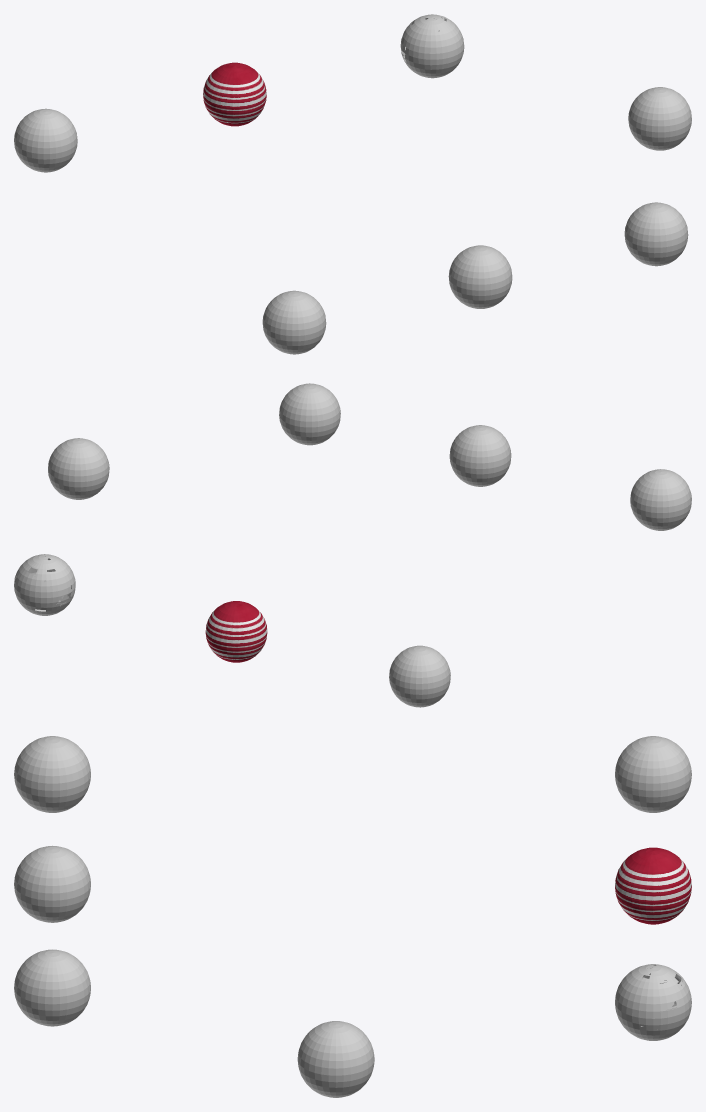
Rendered from PBR.fbx.
The picture shows the model from 3 angles, top to bottom: view 1: azimuth 30°, elevation 25°; view 2: azimuth 150°, elevation 25°; view 3: azimuth 270°, elevation 25°; orthographic projection. The views are drawn at different scales.
Parts seen in each view (by area): view 1: Sphere.005, Sphere.002, Sphere.004, Sphere.001, Sphere.006, Sphere.003, Sphere; view 2: Sphere.003, Sphere.001, Sphere, Sphere.004, Sphere.006, Sphere.002, Sphere.005; view 3: Sphere.001, Sphere.004, Sphere.006, Sphere, Sphere.005, Sphere.002, Sphere.003.
Part boxes in pixels (box(x1,y1,x2,y2)): Sphere.005: box(400, 14, 464, 78); Sphere.002: box(262, 290, 326, 354); Sphere.004: box(203, 62, 266, 126); Sphere.001: box(624, 202, 688, 266); Sphere.006: box(628, 87, 691, 150); Sphere.003: box(14, 108, 77, 172); Sphere: box(448, 245, 512, 308); Sphere.003: box(389, 645, 450, 707); Sphere.001: box(279, 383, 340, 445); Sphere: box(449, 425, 511, 486); Sphere.004: box(205, 601, 267, 662); Sphere.006: box(48, 438, 109, 499); Sphere.002: box(630, 469, 691, 530); Sphere.005: box(14, 554, 75, 615); Sphere.001: box(14, 949, 90, 1026); Sphere.004: box(615, 847, 691, 924); Sphere.006: box(297, 1021, 374, 1097); Sphere: box(14, 845, 90, 922); Sphere.005: box(615, 964, 691, 1040); Sphere.002: box(14, 736, 90, 812); Sphere.003: box(615, 736, 691, 812).
Size of what is drawn, in the model's own units: 1947 by 200 by 1757.
